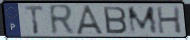A: (75, 4, 107, 36)
B: (102, 6, 129, 35)
H: (155, 6, 184, 35)
M: (126, 6, 160, 36)
R: (48, 3, 77, 37)
T: (23, 5, 46, 35)
